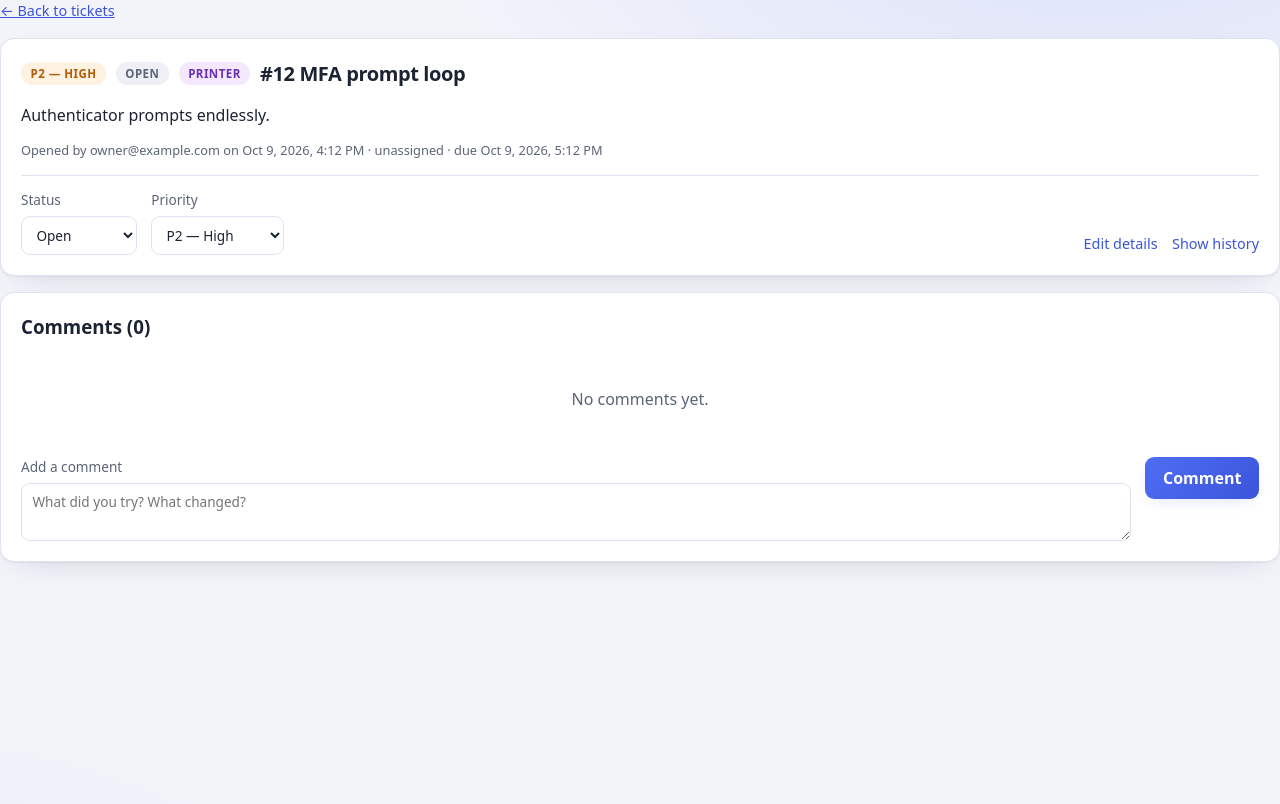
edit details › keeps the form open and shows the error when saving fails
Expected: the heading "#12 MFA prompt loop" is shown, [260,59,465,89]
Click the button "Edit details": coordinates (1121, 244) [1084,233,1158,254]
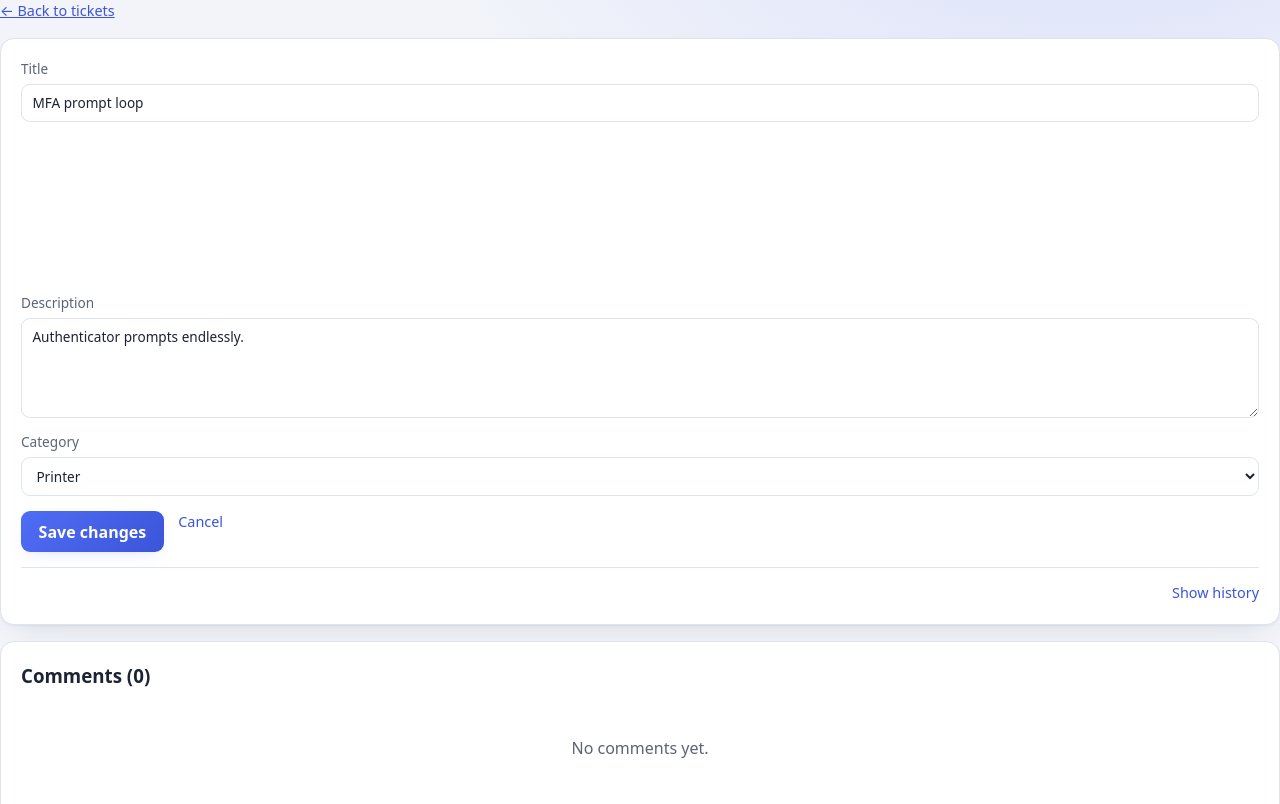
Click the button "Save changes": coordinates (92, 532) [21,511,164,552]
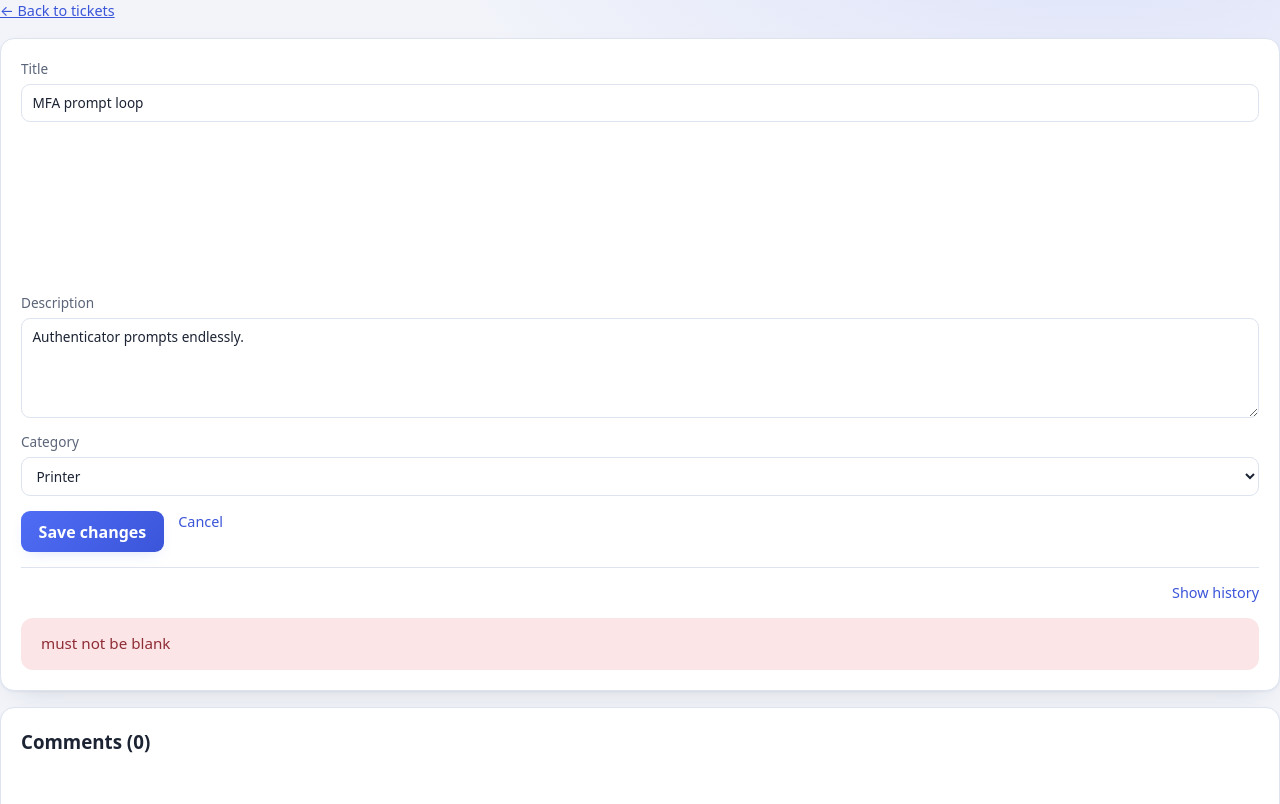
Expected: the field labelled "Title" is shown, [21,84,1259,122]
Expected: the message reads "must not be blank", [41,634,170,654]
